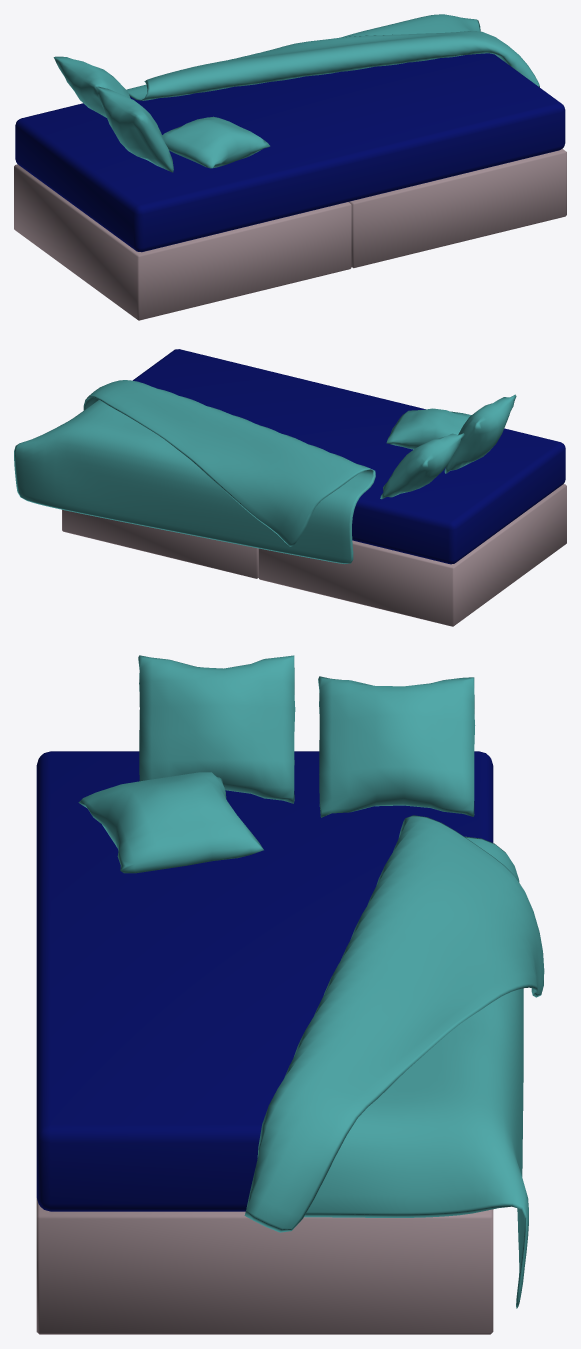
The model's file is SM_Bed.fbx.
3 views of the same model, one above another, from view 1: azimuth 30°, elevation 25°; view 2: azimuth 150°, elevation 25°; view 3: azimuth 270°, elevation 25° (orthographic). The views are drawn at different scales.
Visible parts, largest first — view 1: SM_Mattress01, SM_BedFrame01, SM_BedFrame02, SM_Blanket01, SM_Pillow03, SM_Pillow02, SM_Pillow01; view 2: SM_Blanket01, SM_Mattress01, SM_BedFrame01, SM_BedFrame02, SM_Pillow01, SM_Pillow02, SM_Pillow03; view 3: SM_Mattress01, SM_Blanket01, SM_BedFrame02, SM_Pillow01, SM_Pillow02, SM_Pillow03.
Part boxes in pixels (x1,y1,x2,y2): SM_Mattress01: (15, 53, 565, 252); SM_BedFrame01: (14, 164, 351, 320); SM_BedFrame02: (348, 149, 566, 268); SM_Blanket01: (126, 14, 539, 100); SM_Pillow03: (162, 116, 270, 168); SM_Pillow02: (96, 86, 173, 172); SM_Pillow01: (53, 56, 130, 117); SM_Blanket01: (14, 380, 375, 563); SM_Mattress01: (133, 349, 565, 564); SM_BedFrame01: (258, 484, 566, 626); SM_BedFrame02: (62, 509, 258, 578); SM_Pillow01: (380, 433, 464, 499); SM_Pillow02: (444, 394, 516, 473); SM_Pillow03: (386, 408, 471, 449); SM_Mattress01: (36, 751, 493, 1211); SM_Blanket01: (244, 815, 544, 1308); SM_BedFrame02: (36, 1198, 493, 1334); SM_Pillow01: (318, 676, 475, 817); SM_Pillow02: (138, 655, 295, 803); SM_Pillow03: (78, 772, 263, 873).
Size of the model in its own units: 437 by 157 by 222.
